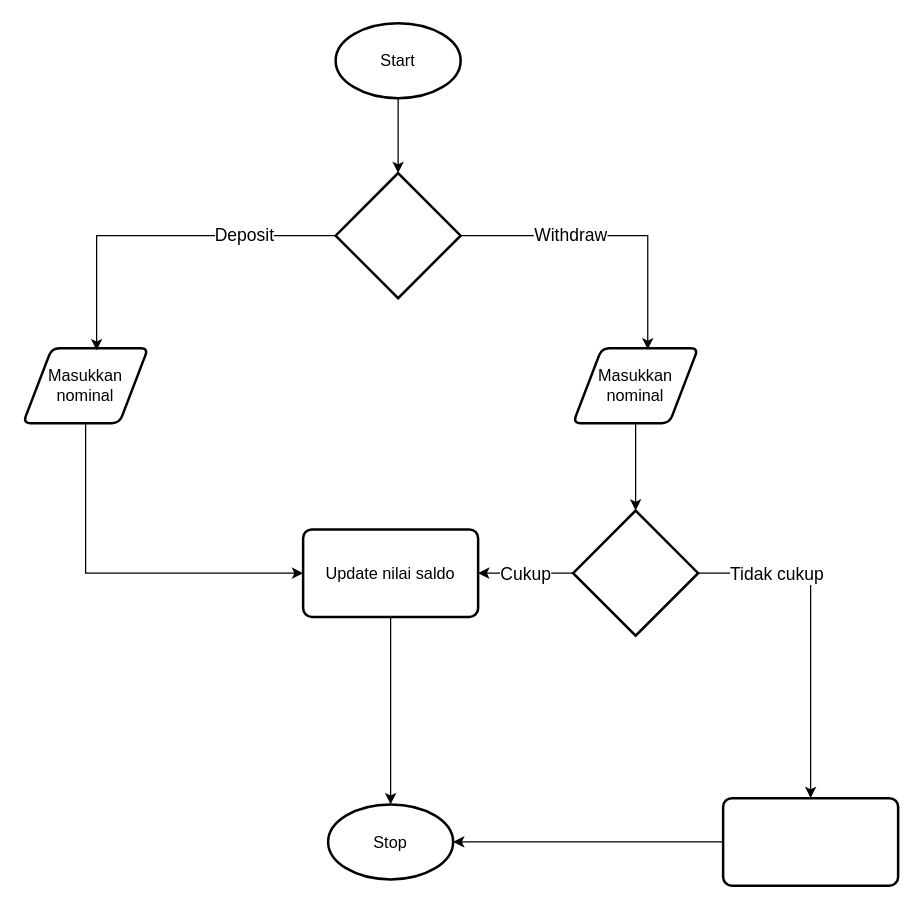
This 920x908 diagram has some shape labels left out. Here are the shapes that lost their labels. From the top down, the box of each, then its label:
(334, 171, 461, 299): Memilih menu
(571, 509, 699, 636): Cek saldo
(721, 796, 899, 886): Tampilkan "Saldo tidak cukup"
